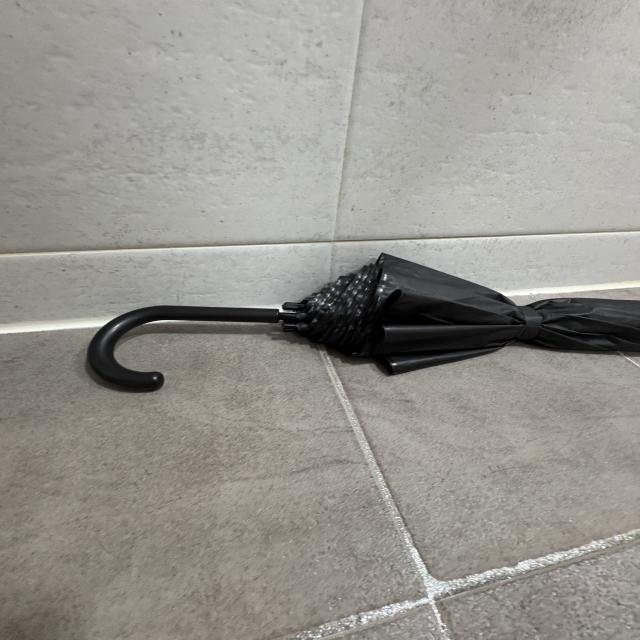umbrella: (91, 252, 640, 395)
